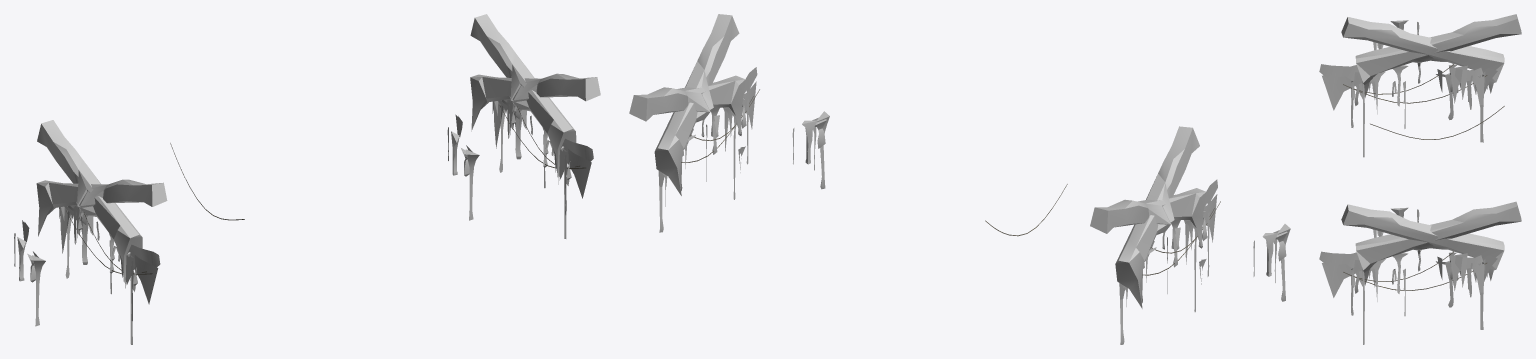
File: Hangings_02.fbx
The picture shows the model from 3 angles, left to right: view 1: azimuth 30°, elevation 25°; view 2: azimuth 150°, elevation 25°; view 3: azimuth 270°, elevation 25°; orthographic projection. The views are drawn at different scales.
Parts seen in each view (by area): view 1: Hangings_02; view 2: Hangings_02; view 3: Hangings_02.
Boxes of the visible parts, x1=… form: Hangings_02: x1=14, y1=14, x2=600, y2=344; Hangings_02: x1=629, y1=14, x2=1290, y2=344; Hangings_02: x1=1319, y1=14, x2=1521, y2=344.
Size of the model in its own units: 1899 by 540 by 681.
